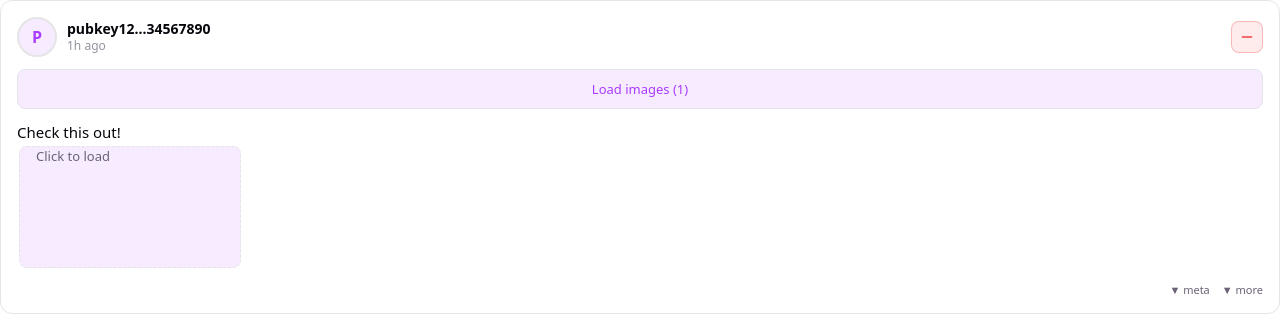
Test: NostrEventCard › should reveal a blurred NSFW image when clicked
The image size is (1280, 331).
What coordinates should you click on to do the following:
click the button "Click to load"
I would click on:
 (130, 206)
Its box is [19,146,241,268].
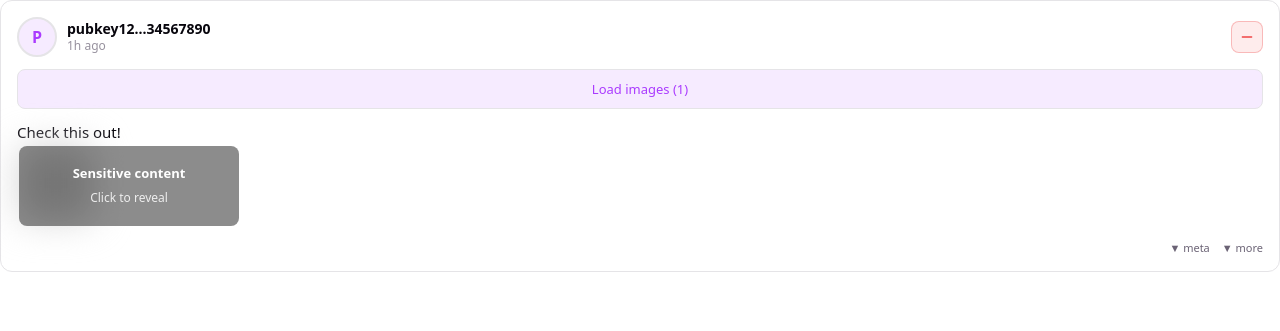
Result: the text "Sensitive content" is shown
What coordinates should you click on to do the following:
click the text "Sensitive content"
I would click on:
 (129, 174)
Its box is [73,164,185,183].
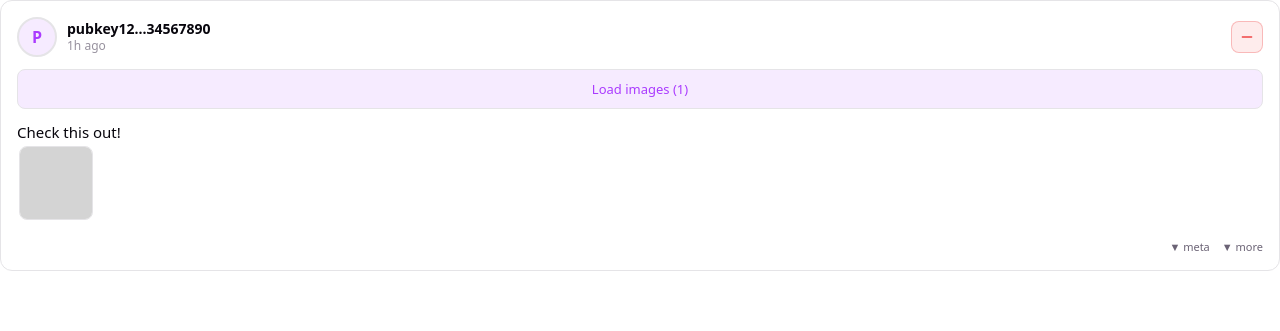
Result: the button "Sensitive content" is gone
